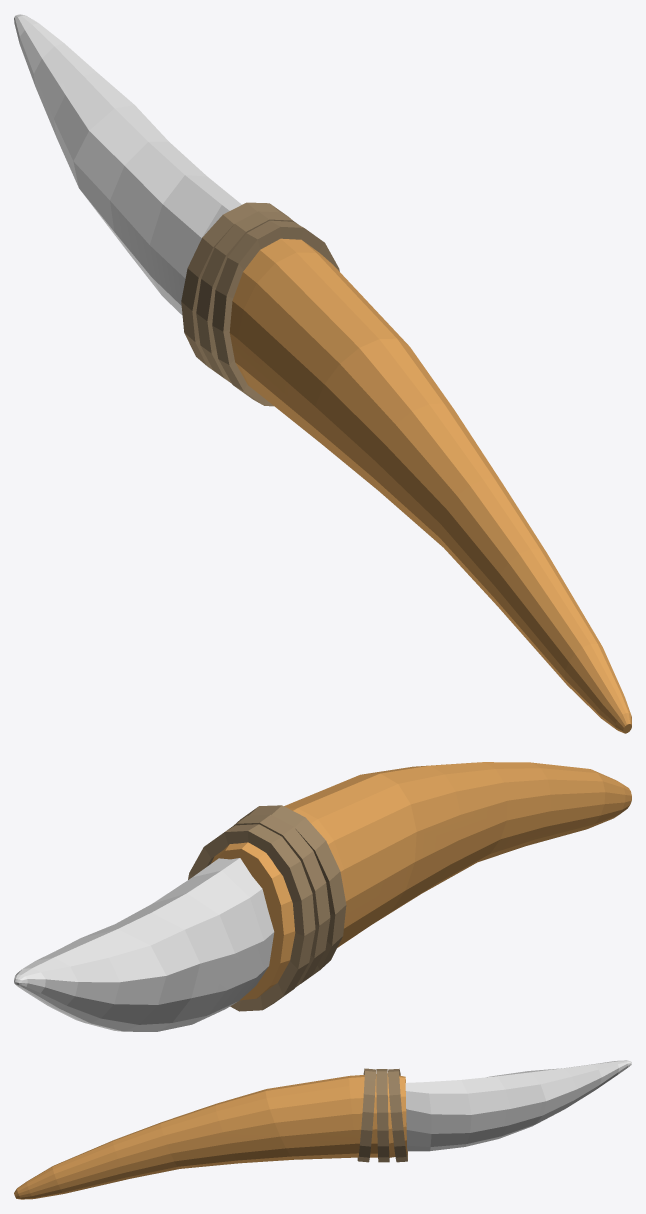
File: Knife.fbx
3 renders of one model, top to bottom at view 1: azimuth 30°, elevation 25°; view 2: azimuth 150°, elevation 25°; view 3: azimuth 270°, elevation 25°, orthographic. The views are drawn at different scales.
Visible parts, largest first — view 1: Knife; view 2: Knife; view 3: Knife.
Part boxes in pixels (bbox=[...]): Knife: bbox=[14, 14, 631, 733]; Knife: bbox=[14, 762, 631, 1031]; Knife: bbox=[14, 1060, 631, 1199].
Bounding box in the file's own units: 2.36 × 5.07 × 20.51.
